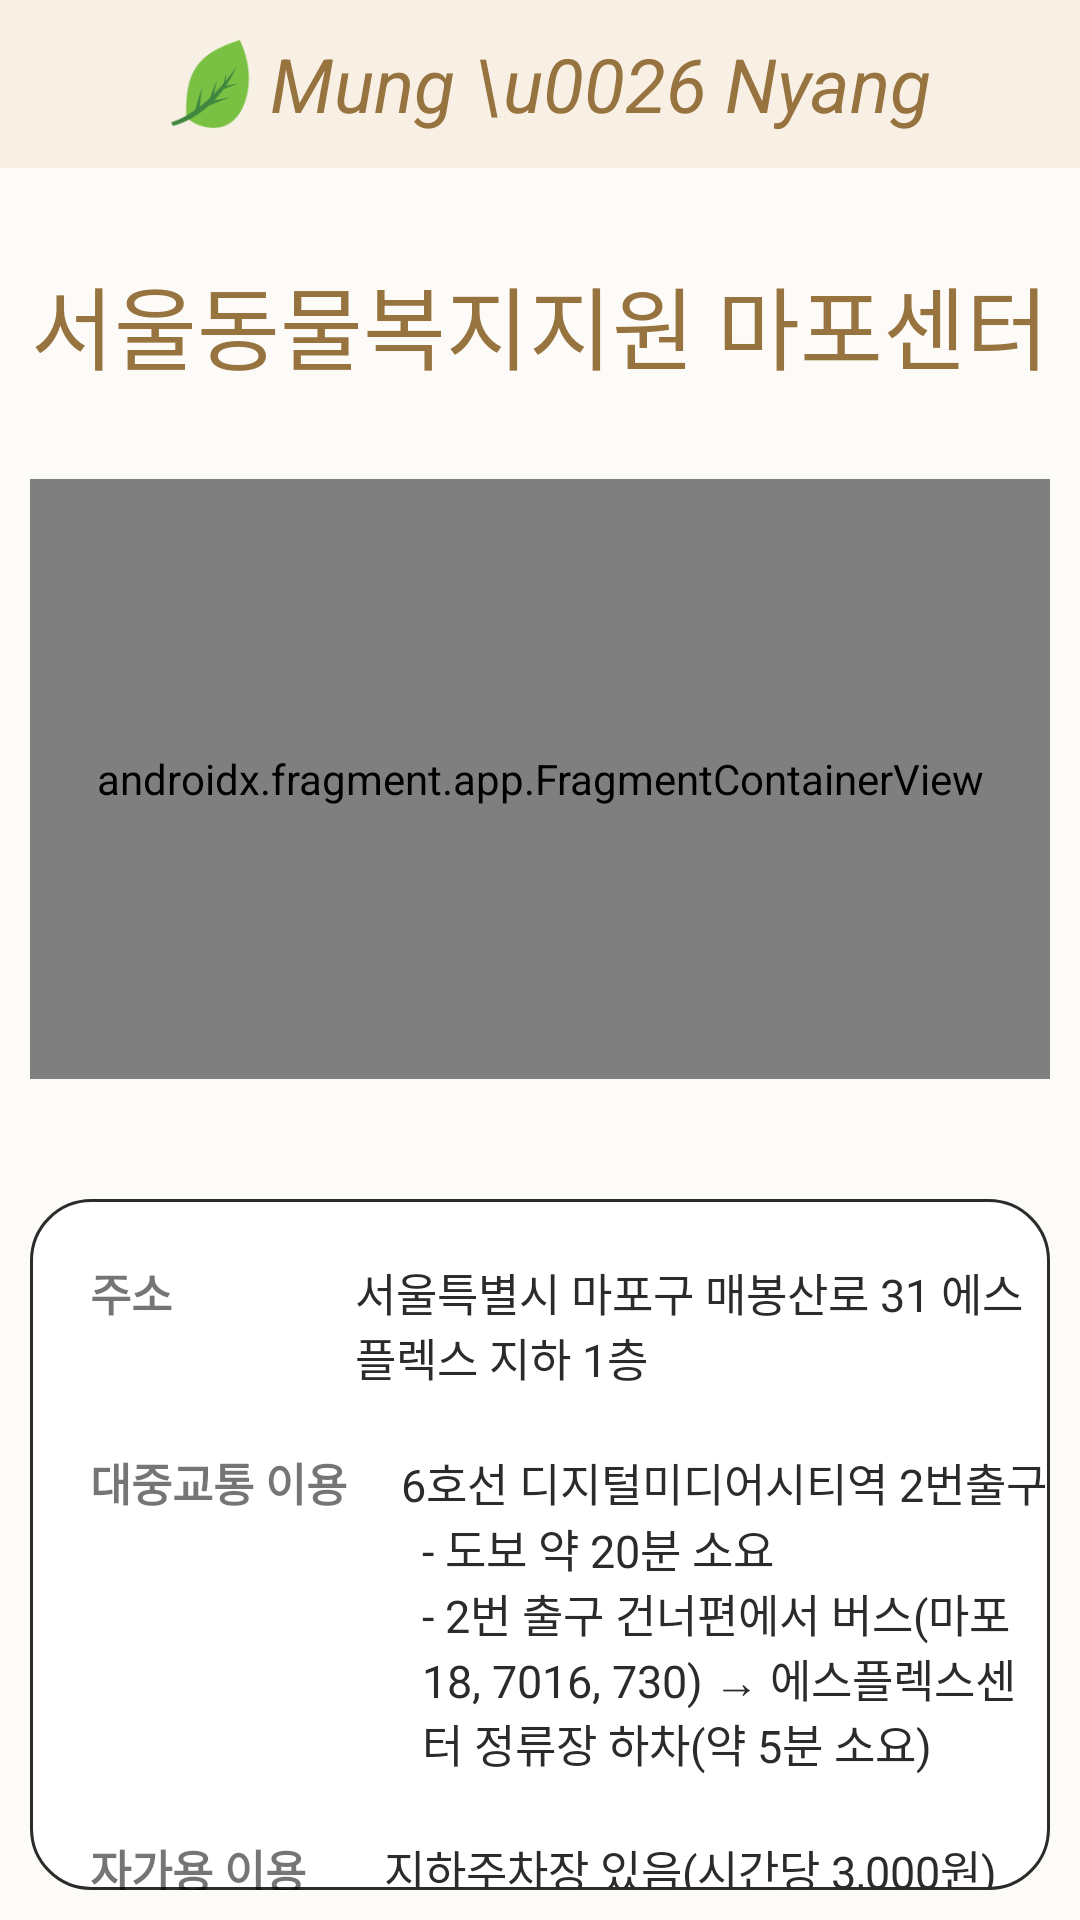

Where to tap for icons on this 1080px×1920px app screen, as [x,y]:
leaf: [210,84]
